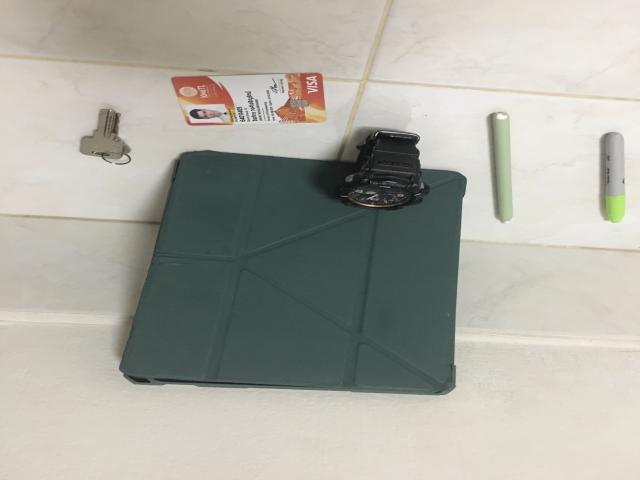Keys: (80, 109, 132, 165)
Pen: (605, 132, 625, 223)
Watch: (336, 130, 431, 210)
